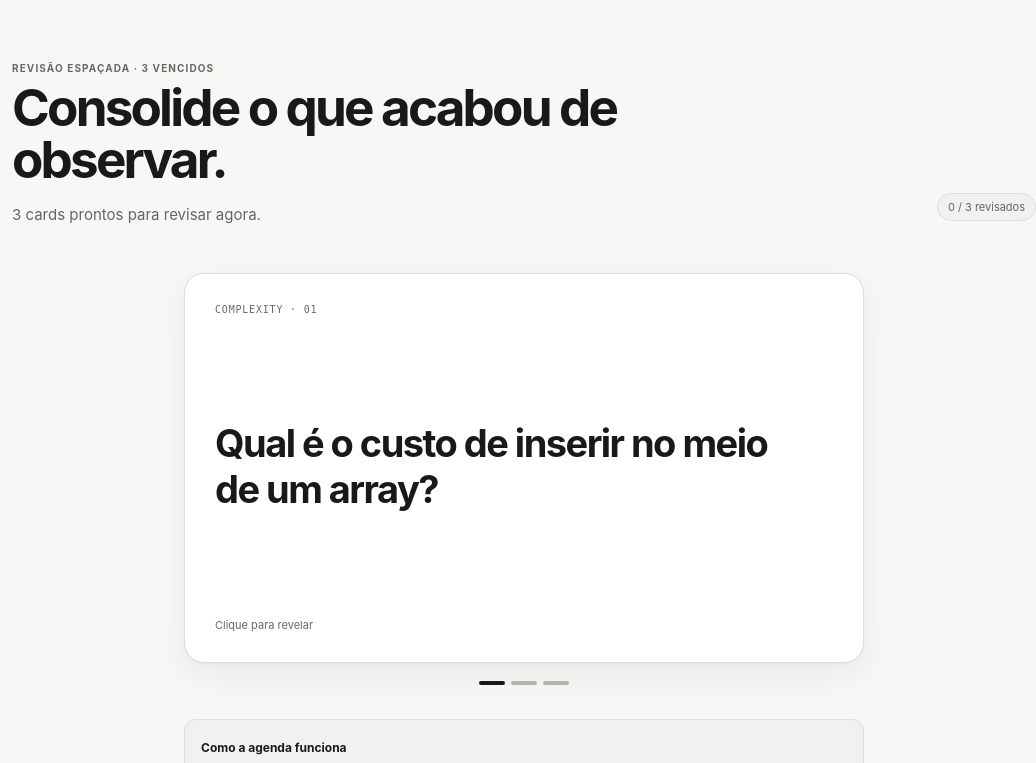
Test case: FlashcardsPanel › vira e agenda um dos três cards
Click the button with aria-label "Frente do flashcard" at {"x": 823, "y": 468}, box [184,273,864,663]
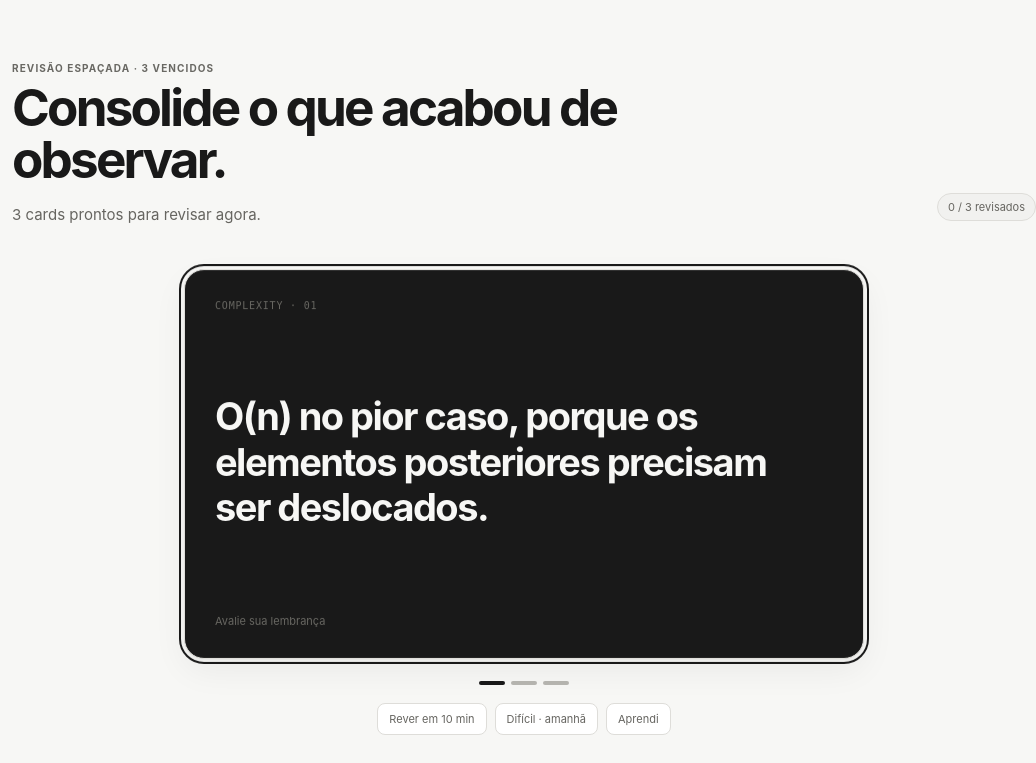
Expected: the text "O(n) no pior caso" is shown, [215,394,766,531]
Click the button "Aprendi" at {"x": 638, "y": 719}, box [606,703,671,735]
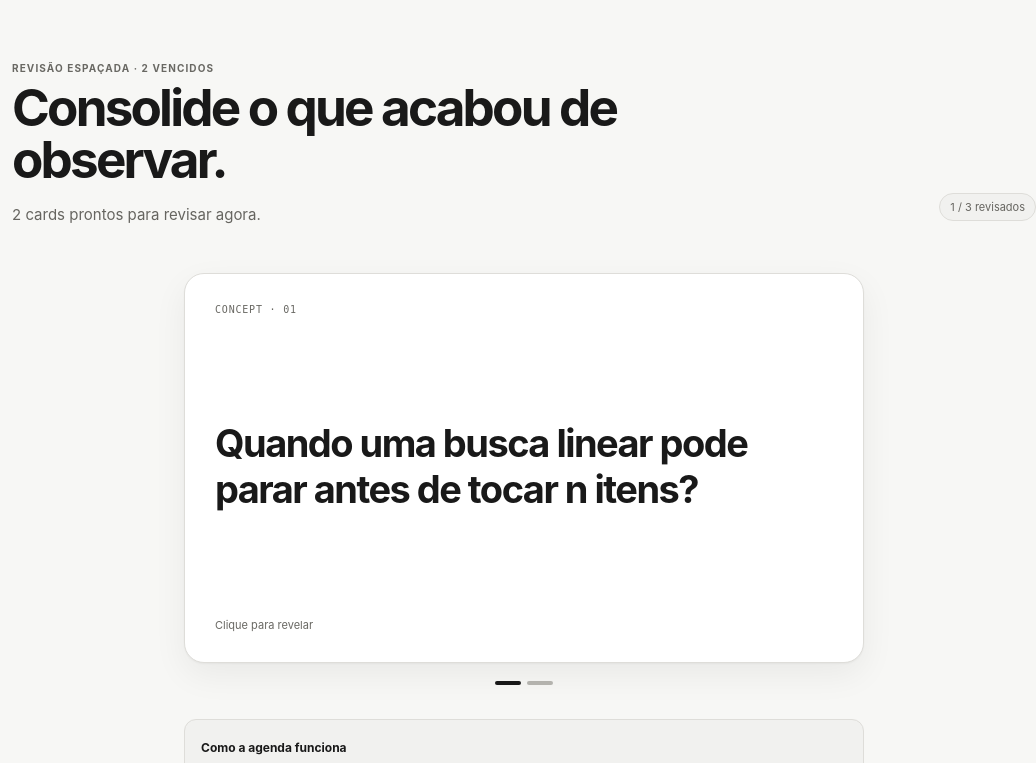
Expected: the text "Quando uma busca linear pode parar antes de tocar n itens?" is shown, [215,421,795,512]
